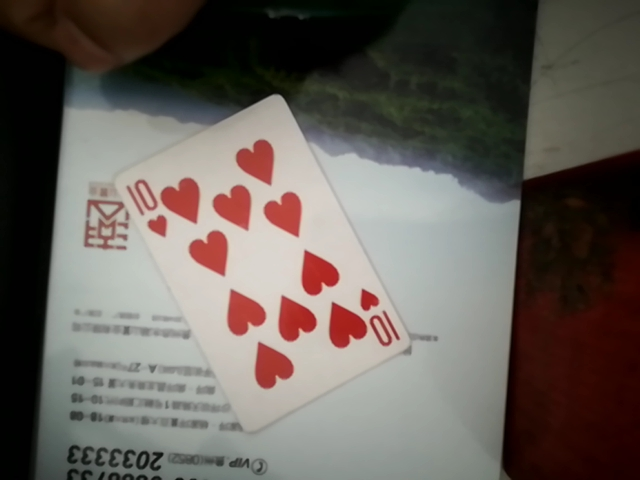hx 10: (105, 83, 411, 431)
